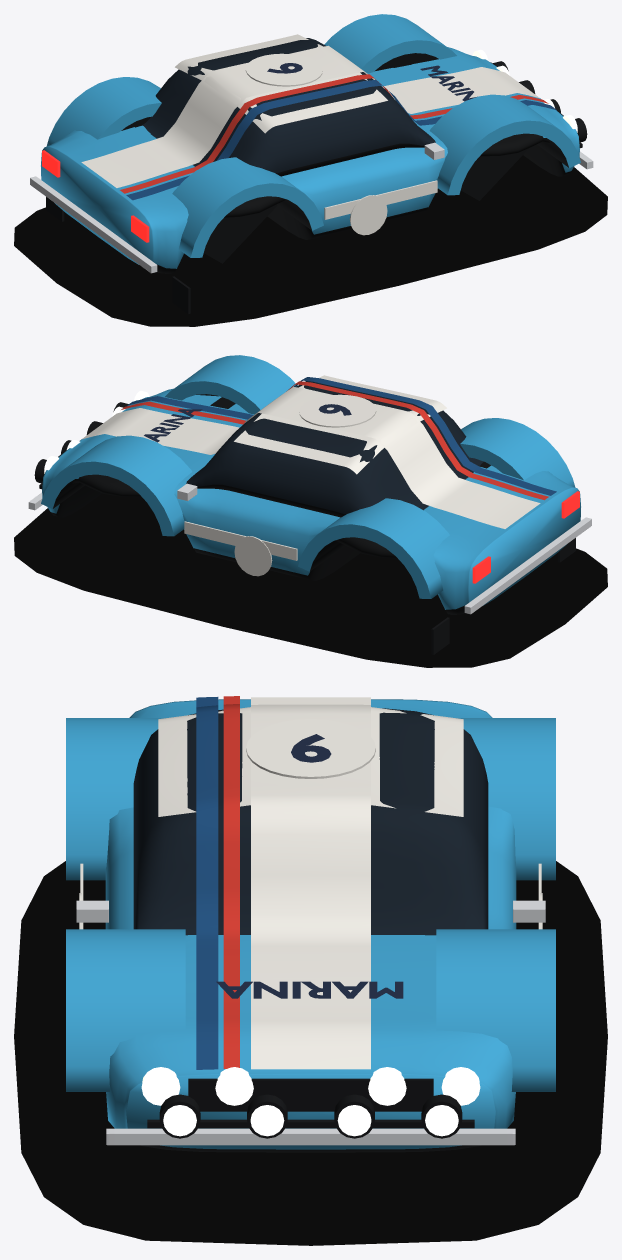
The model's file is car-3.glb.
3 views of the same model, one above another, from view 1: azimuth 30°, elevation 25°; view 2: azimuth 150°, elevation 25°; view 3: azimuth 270°, elevation 25° (orthographic). The views are drawn at different scales.
Parts seen in each view (by area): view 1: car-3; view 2: car-3; view 3: car-3.
Boxes of the visible parts, bbox=[...] form: car-3: bbox=[14, 14, 607, 326]; car-3: bbox=[14, 355, 607, 667]; car-3: bbox=[14, 696, 607, 1245].
Bounding box in the file's own units: 3.8 × 1.14 × 2.28.
